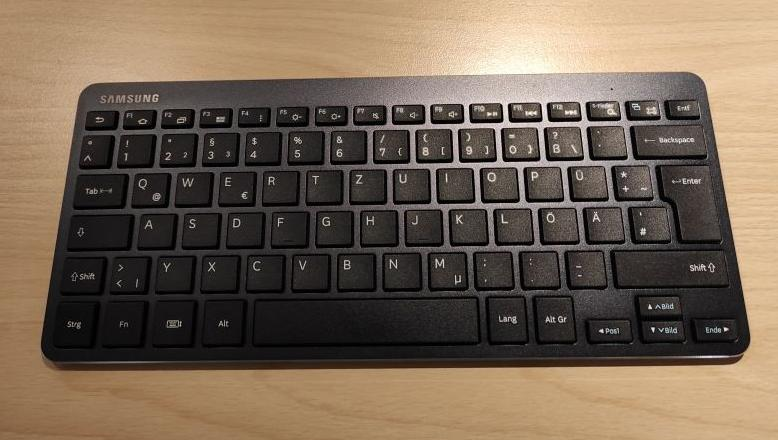0: (498, 124, 537, 159)
1: (115, 131, 152, 165)
2: (157, 130, 194, 163)
3: (199, 129, 236, 163)
4: (242, 128, 278, 162)
5: (284, 128, 321, 162)
6: (327, 127, 365, 161)
7: (370, 126, 408, 161)
8: (412, 125, 450, 160)
9: (455, 125, 494, 159)
a: (135, 210, 173, 247)
accent: (586, 122, 625, 157)
ae: (582, 204, 623, 242)
alt-left: (199, 295, 243, 344)
altgr-right: (532, 292, 575, 342)
b: (333, 249, 373, 289)
c: (243, 251, 282, 290)
caret: (76, 132, 109, 166)
comma: (470, 248, 512, 287)
d: (223, 209, 261, 246)
del: (629, 120, 705, 156)
e: (215, 167, 254, 204)
enter: (655, 160, 720, 242)
f: (267, 208, 305, 245)
g: (312, 207, 350, 244)
h: (357, 207, 396, 244)
hash: (627, 203, 669, 241)
i: (434, 165, 473, 201)
j: (401, 206, 441, 243)
k: (446, 205, 486, 243)
keyboard: (32, 70, 752, 368)
l: (492, 205, 531, 243)
less: (106, 252, 147, 292)
m: (425, 248, 465, 289)
minus: (562, 247, 605, 286)
n: (379, 249, 419, 289)
o: (477, 164, 517, 200)
oe: (536, 204, 578, 242)
p: (522, 163, 562, 199)
plus: (610, 161, 651, 198)
point: (517, 247, 558, 286)
q: (128, 169, 167, 206)
r: (259, 167, 297, 203)
s: (179, 209, 217, 247)
shift-left: (57, 253, 103, 293)
shift-lock: (65, 211, 129, 248)
shift-right: (609, 245, 728, 286)
space: (250, 293, 478, 345)
ss: (542, 123, 581, 157)
strg-left: (50, 297, 94, 347)
t: (303, 166, 340, 202)
tab: (70, 169, 125, 206)
u: (390, 166, 428, 202)
ue: (566, 162, 607, 199)
v: (289, 250, 328, 289)
w: (172, 168, 210, 204)
x: (198, 251, 236, 290)
y: (152, 252, 191, 291)
z: (347, 166, 385, 202)
